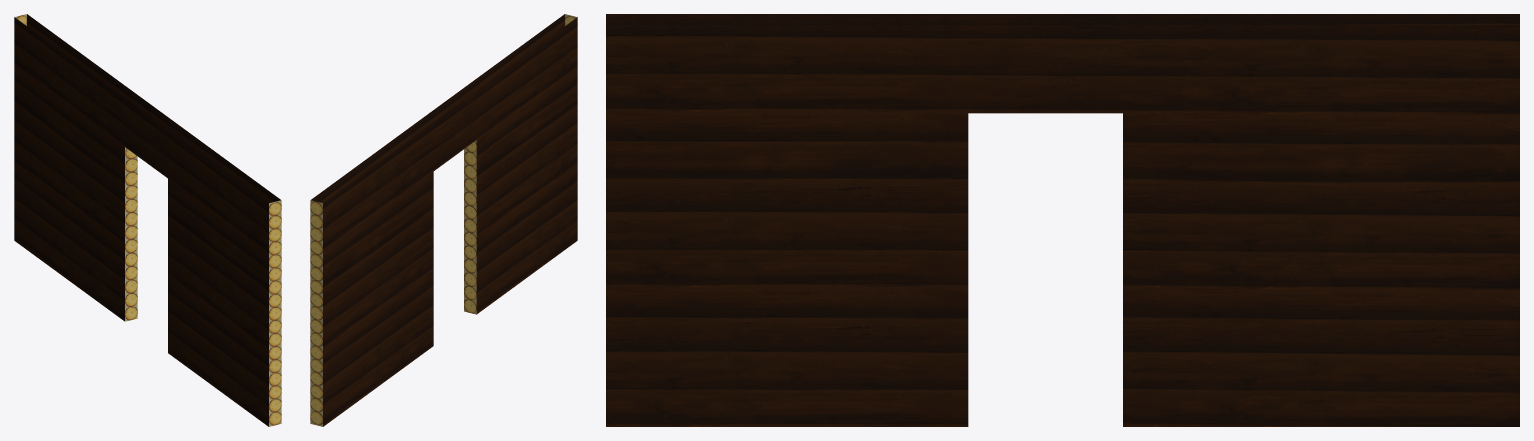
Rendered from Wall with door house 2.fbx.
3 views of the same model, side by side, from view 1: azimuth 30°, elevation 25°; view 2: azimuth 150°, elevation 25°; view 3: azimuth 270°, elevation 25° (orthographic). The views are drawn at different scales.
Parts seen in each view (by area): view 1: Plain_short_wall_house_2_door1; view 2: Plain_short_wall_house_2_door1; view 3: Plain_short_wall_house_2_door1.
Boxes of the visible parts, x1,y1,x2,y2 form: Plain_short_wall_house_2_door1: (14,14,281,426); Plain_short_wall_house_2_door1: (310,14,577,426); Plain_short_wall_house_2_door1: (606,14,1519,426).
Bounding box in the file's own units: 0.1702 × 2.87 × 5.92.
